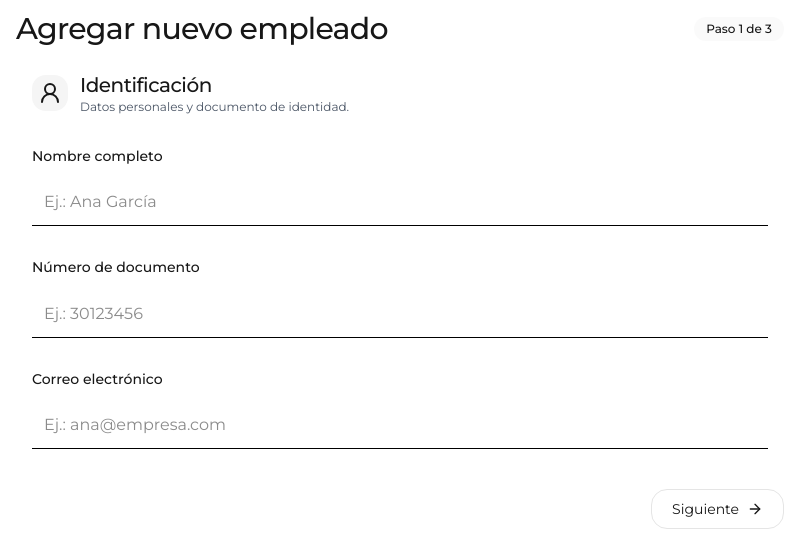
hr-employees pages › detects the document type while typing
Type "1710034065" into the field labelled "Número de documento" at (400, 314), box [32,290,768,338]
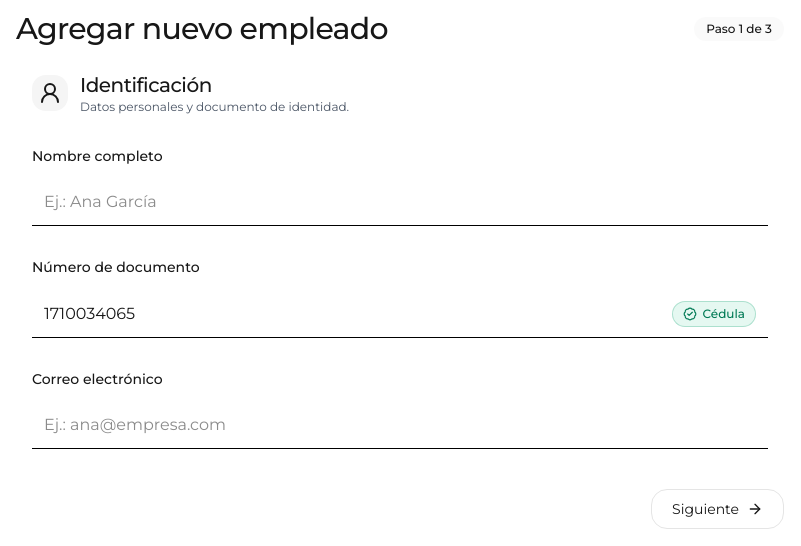
Now the text "Cédula" is shown, box [672,300,756,326]
Replace the text in the field labelled "Número de documento" with "1710034065001" at (400, 314), box [32,290,768,338]
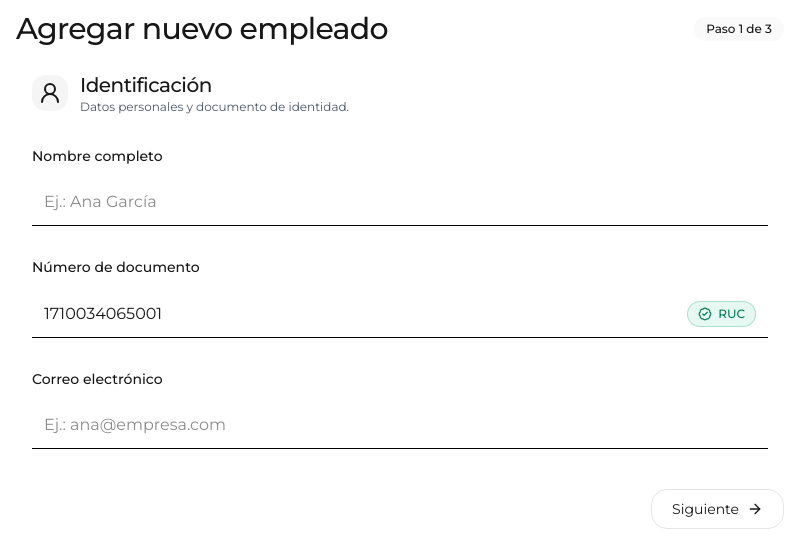
Now the text "RUC" is shown, box [687,300,756,326]
